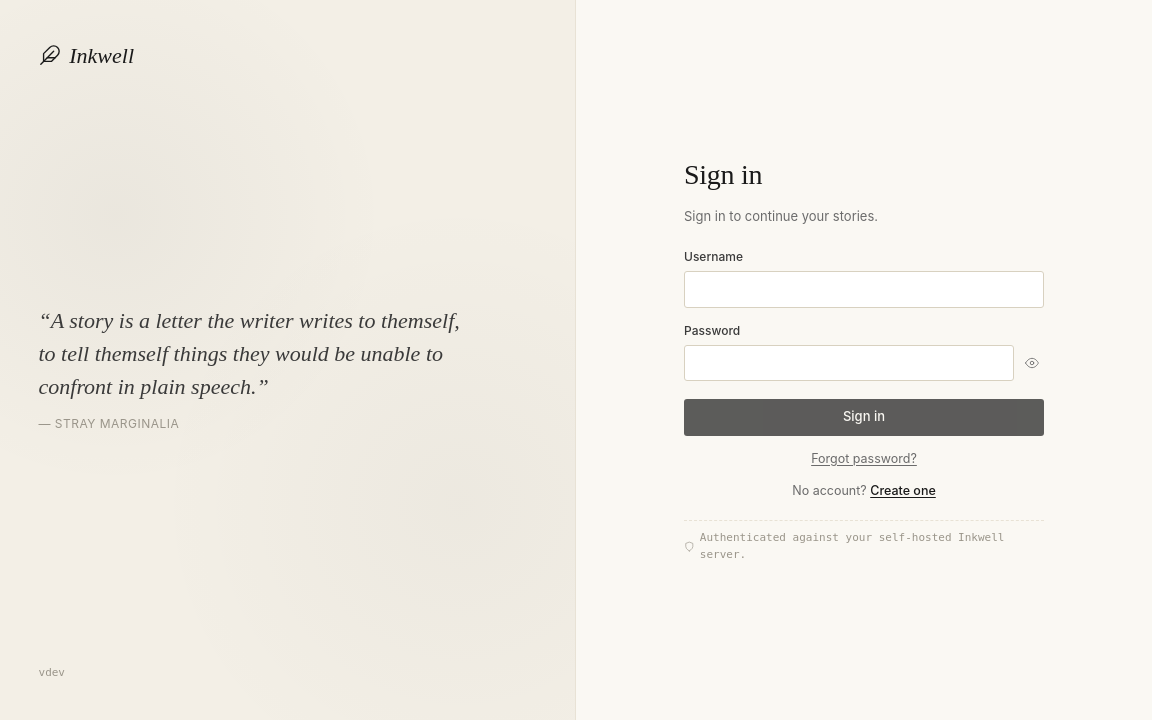
Test: reset-password page (F60) › login screen has a "Forgot password?" link that routes to /reset-password
expect the heading "Sign in" is shown: met, box [684, 159, 762, 190]
Click the link "Forgot password?": click(864, 458) [811, 451, 917, 466]
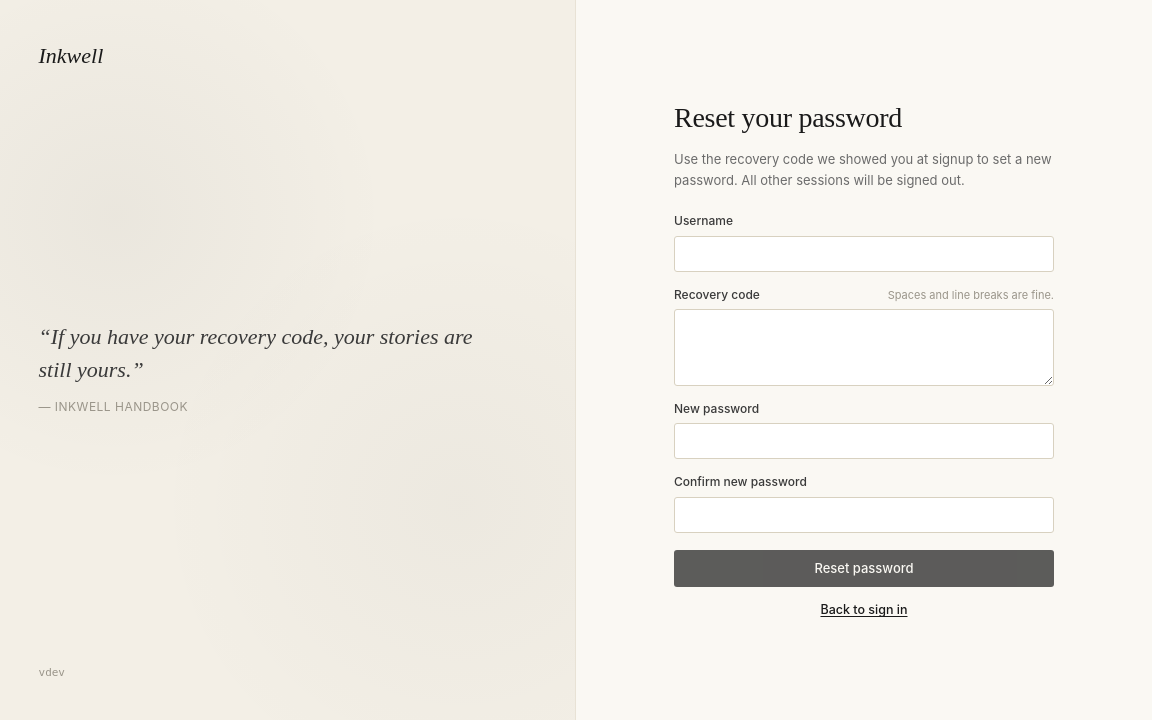
expect the heading "Reset your password" is shown: met, box [674, 102, 902, 133]
